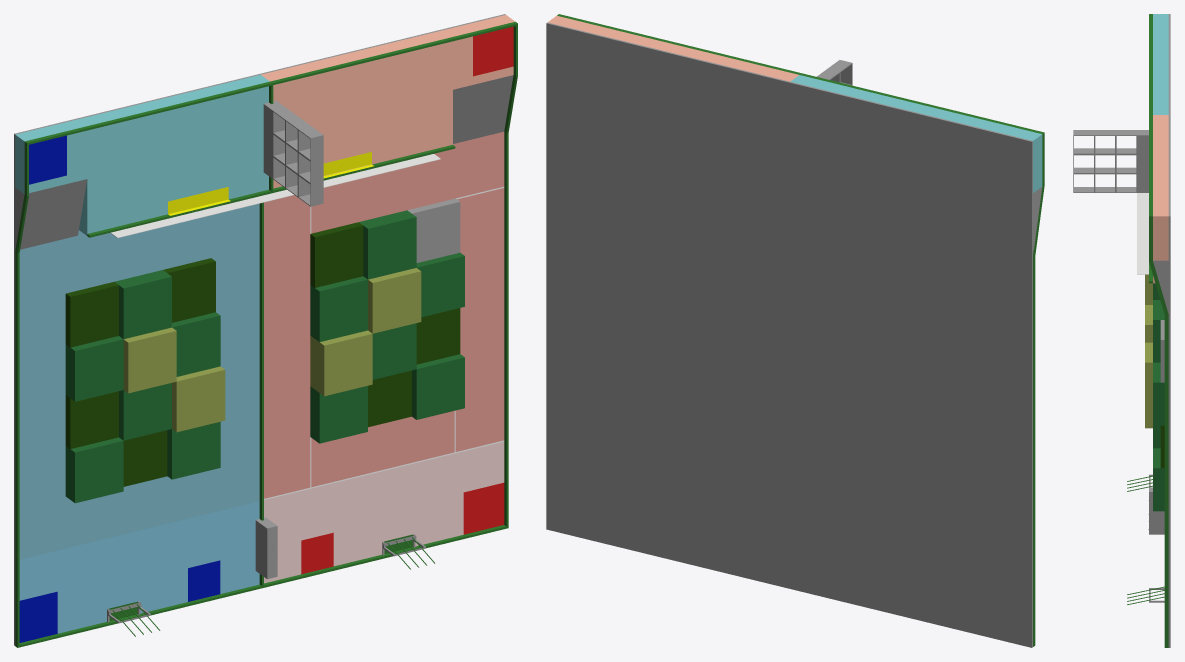
The model's file is Game_Field_Robocon_2026_v13.glb.
The picture shows the model from 3 angles, left to right: view 1: azimuth 30°, elevation 25°; view 2: azimuth 150°, elevation 25°; view 3: azimuth 270°, elevation 25°; orthographic projection. The views are drawn at different scales.
Parts seen in each view (by area): view 1: Component3_1.step-1, Component3(Mirror)_1.step-1, Component2_1.step-1, Component11(Mirror)_1.step-1, Component11_1.step-1, Component6(Mirror)_1.step-1, Component6_1.step-1, Component36_1.step-1, Component5(Mirror)_1.step-1, Component5_1.step-1, Component7_1.step-1, Component7(Mirror)_1.step-1 (+13 smaller); view 2: Component1_1.step-1, Component36_1.step-1, Component11(Mirror)_1.step-1, Component11_1.step-1; view 3: Component36_1.step-1, Component20_1.step-1, Component11_1.step-1, Component6_1.step-1, Component1_1.step-1, Component11(Mirror)_1.step-1, Component21_1.step-1, Component7_1.step-1, Component5_1.step-1, Component7(Mirror)_1.step-1, Component19_1.step-1, Component12_1.step-1.
Boxes of the visible parts, <box> form: Component3_1.step-1: <box>264,131,504,498</box>; Component3(Mirror)_1.step-1: <box>19,203,259,558</box>; Component2_1.step-1: <box>19,441,504,633</box>; Component11(Mirror)_1.step-1: <box>15,74,269,235</box>; Component11_1.step-1: <box>261,15,514,188</box>; Component6(Mirror)_1.step-1: <box>65,270,220,503</box>; Component6_1.step-1: <box>310,210,464,443</box>; Component36_1.step-1: <box>15,21,517,647</box>; Component5(Mirror)_1.step-1: <box>65,258,215,486</box>; Component5_1.step-1: <box>310,198,460,427</box>; Component7_1.step-1: <box>310,268,421,396</box>; Component7(Mirror)_1.step-1: <box>123,327,225,432</box>; Component1_1.step-1: <box>546,22,1032,647</box>; Component36_1.step-1: <box>557,14,1044,646</box>; Component11(Mirror)_1.step-1: <box>791,75,1042,192</box>; Component11_1.step-1: <box>548,15,798,81</box>; Component36_1.step-1: <box>1149,14,1168,647</box>; Component20_1.step-1: <box>1073,130,1148,192</box>; Component11_1.step-1: <box>1153,115,1168,283</box>; Component6_1.step-1: <box>1153,300,1164,511</box>; Component1_1.step-1: <box>1168,14,1170,647</box>; Component11(Mirror)_1.step-1: <box>1153,14,1168,114</box>; Component21_1.step-1: <box>1137,193,1148,274</box>; Component7_1.step-1: <box>1145,342,1152,428</box>; Component5_1.step-1: <box>1160,320,1164,468</box>; Component7(Mirror)_1.step-1: <box>1145,274,1152,342</box>; Component19_1.step-1: <box>1148,487,1164,534</box>; Component12_1.step-1: <box>1153,260,1168,313</box>.
Size of the model in its own units: 12.15 by 12.1 by 2.47.
